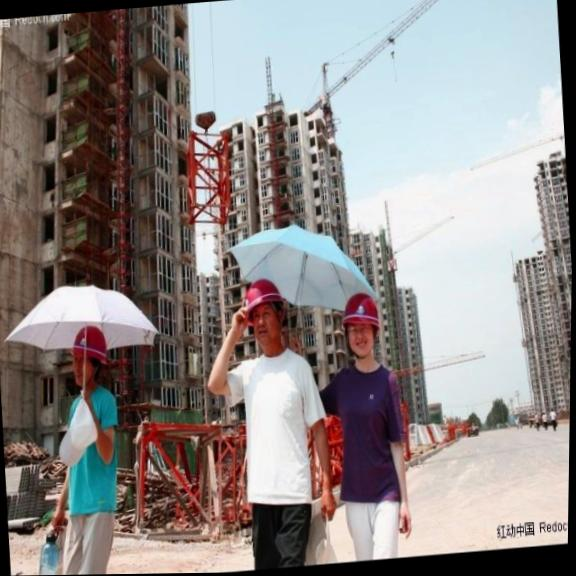no_safety_vest: (224, 344, 338, 512), (326, 359, 415, 504), (54, 379, 127, 512)
